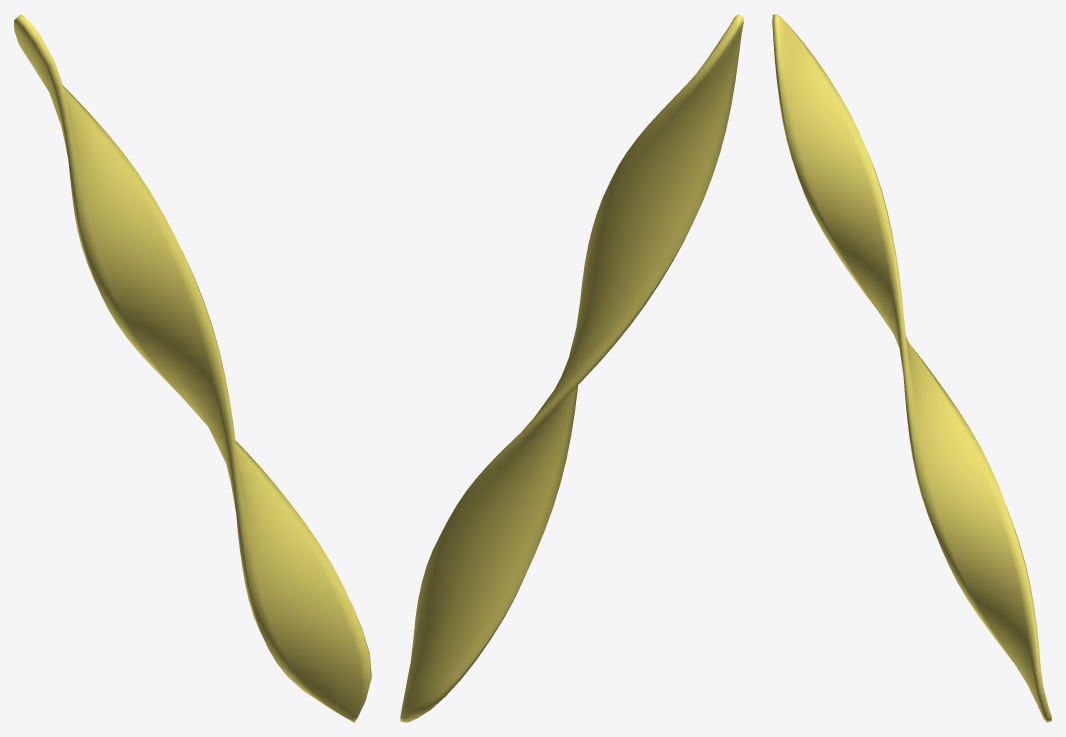
The model's file is Fusili.005.gltf.
The picture shows the model from 3 angles, left to right: view 1: azimuth 30°, elevation 25°; view 2: azimuth 150°, elevation 25°; view 3: azimuth 330°, elevation 25°; orthographic projection. The views are drawn at different scales.
Parts seen in each view (by area): view 1: Fusili.005; view 2: Fusili.005; view 3: Fusili.005.
Part boxes in pixels (box(x1,y1,x2,y2)): Fusili.005: box(14, 14, 371, 722); Fusili.005: box(400, 14, 743, 722); Fusili.005: box(772, 14, 1051, 722).
Size of the model in its own units: 1.33 by 2.92 by 0.3173.
